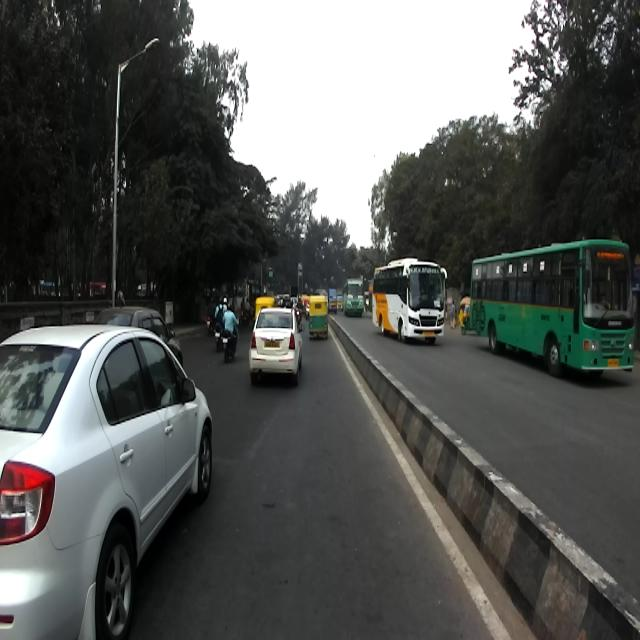car ahead at: (4, 317, 213, 640), (250, 306, 304, 388)
motorcycle ahead at: (218, 308, 244, 359)
